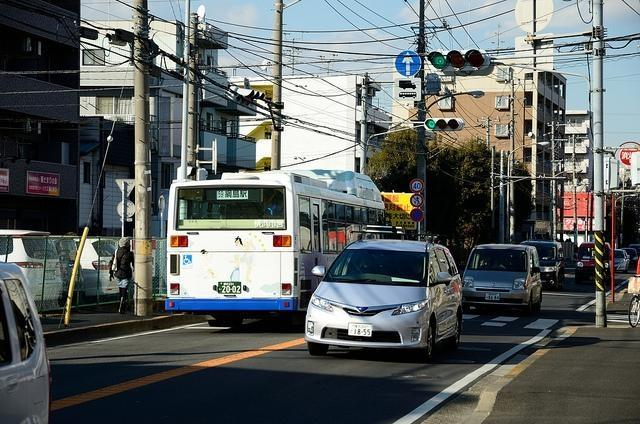bicycle: (627, 290, 640, 330)
bus: (165, 171, 383, 330)
car: (305, 238, 464, 358), (0, 263, 52, 424), (462, 243, 542, 316), (0, 230, 62, 312), (518, 239, 566, 286), (84, 238, 120, 294), (52, 237, 82, 294), (574, 242, 612, 280), (614, 247, 631, 275), (619, 247, 639, 268)
